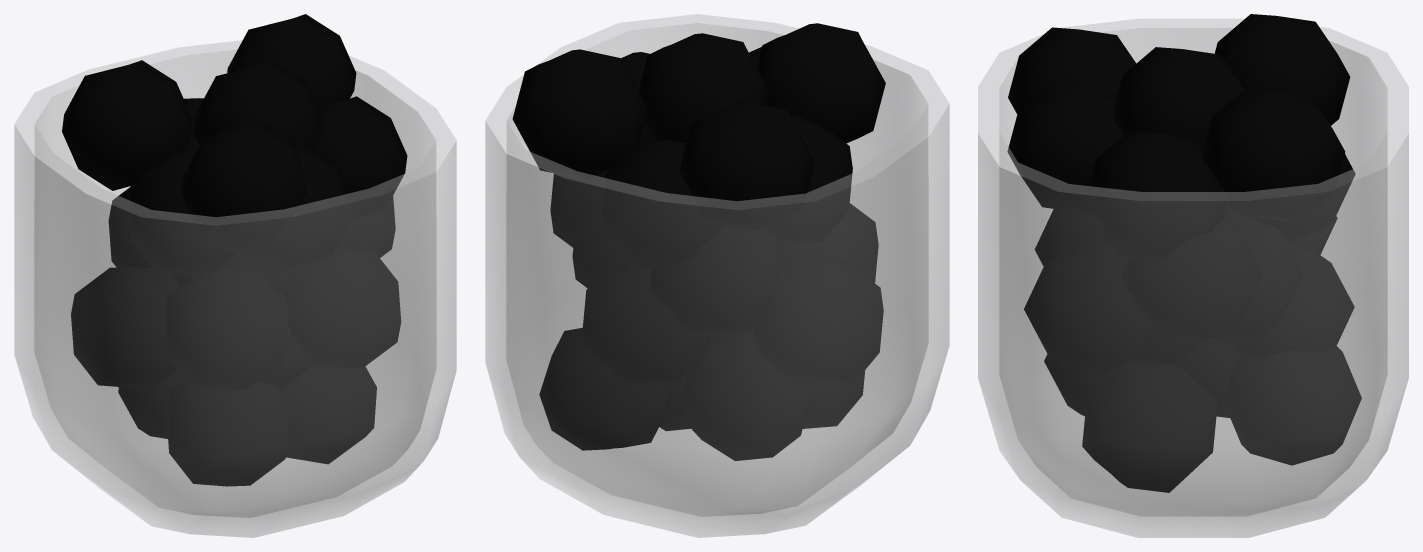
Rendered from jar.glb.
3 renders of one model, left to right at view 1: azimuth 30°, elevation 25°; view 2: azimuth 150°, elevation 25°; view 3: azimuth 270°, elevation 25°, orthographic. The views are drawn at different scales.
Parts seen in each view (by area): view 1: Cuenco, Cube.008, Cube.021, Cube.018, Cube.004, Cube.020, Cube.010, Cube.017, Cube.013, Cube.002, Cube.014, Cube.016 (+6 smaller); view 2: Cuenco, Cube.018, Cube.010, Cube.015, Cube.007, Cube.021, Cube.005, Cube.009, Cube.019, Cube.001, Cube.017, Cube.013 (+6 smaller); view 3: Cuenco, Cube.015, Cube.002, Cube.014, Cube.001, Cube.004, Cube.006, Cube.016, Cube.017, Cube.018, Cube.021, Cube.019 (+7 smaller).
Boxes of the visible parts, left/top/right/bottom form: Cuenco: left=14, top=40, right=456, bottom=537; Cube.008: left=165, top=269, right=286, bottom=389; Cube.021: left=181, top=122, right=307, bottom=252; Cube.018: left=62, top=60, right=192, bottom=190; Cube.004: left=282, top=248, right=401, bottom=369; Cube.020: left=166, top=381, right=288, bottom=486; Cube.010: left=71, top=267, right=179, bottom=387; Cube.017: left=193, top=60, right=321, bottom=149; Cube.013: left=128, top=152, right=238, bottom=273; Cube.002: left=280, top=366, right=376, bottom=464; Cube.014: left=315, top=96, right=407, bottom=220; Cube.016: left=240, top=142, right=353, bottom=272; Cuenco: left=485, top=14, right=949, bottom=537; Cube.018: left=679, top=101, right=814, bottom=230; Cube.010: left=754, top=257, right=883, bottom=386; Cube.015: left=512, top=49, right=646, bottom=178; Cube.007: left=681, top=327, right=810, bottom=460; Cube.021: left=757, top=23, right=885, bottom=143; Cube.005: left=602, top=140, right=723, bottom=267; Cube.009: left=650, top=226, right=779, bottom=335; Cube.019: left=582, top=263, right=708, bottom=383; Cube.001: left=539, top=328, right=674, bottom=450; Cube.017: left=638, top=33, right=770, bottom=142; Cube.013: left=763, top=115, right=852, bottom=244; Cuenco: left=978, top=19, right=1408, bottom=537; Cube.015: left=1201, top=88, right=1345, bottom=221; Cube.002: left=1082, top=360, right=1217, bottom=492; Cube.014: left=1085, top=131, right=1226, bottom=258; Cube.001: left=1222, top=345, right=1361, bottom=465; Cube.004: left=1024, top=237, right=1156, bottom=378; Cube.006: left=1120, top=219, right=1262, bottom=345; Cube.016: left=1007, top=89, right=1124, bottom=213; Cube.017: left=1113, top=47, right=1243, bottom=151; Cube.018: left=1214, top=14, right=1350, bottom=125; Cube.021: left=1008, top=27, right=1136, bottom=113; Cube.019: left=1230, top=245, right=1354, bottom=356.
Bounding box in the file's own units: 0.4738 × 0.5598 × 0.4738.
1 material, 1 textured.
